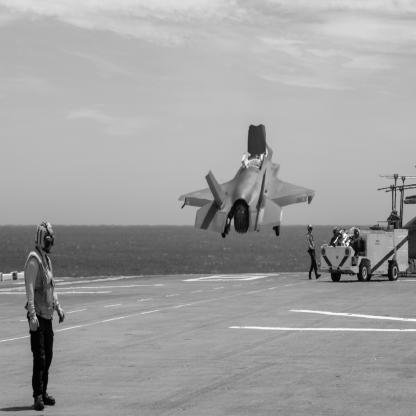F35: (179, 125, 317, 239)
